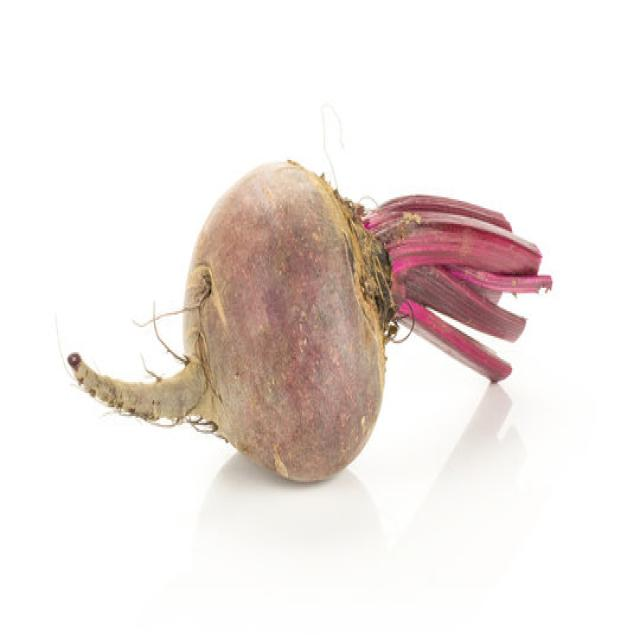Beetroot: (58, 154, 552, 483)
